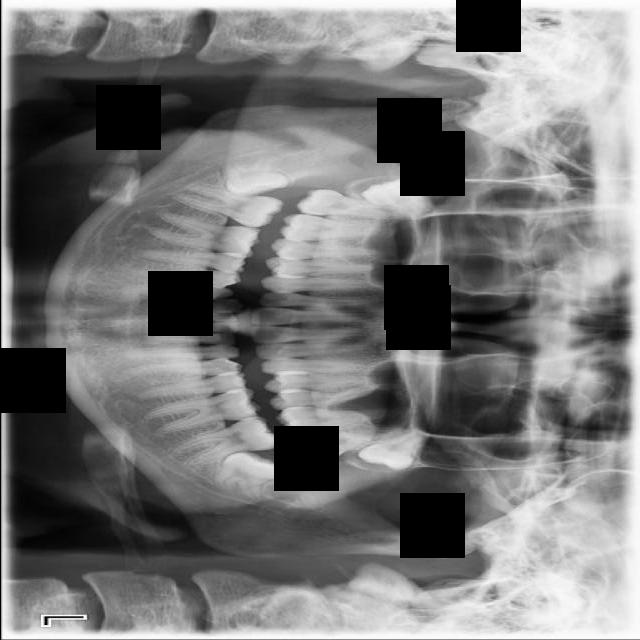3M ESPE Implant: (358, 165, 440, 224)
73: (28, 558, 46, 566)
BioHorizons Implant: (292, 425, 403, 462)
BioLife Implant: (355, 426, 438, 482)
Biomet 3i Implant: (212, 442, 287, 510)
Blue Sky Bio Implant: (167, 412, 281, 470)
Caries: (295, 188, 401, 217)
Implant: (169, 180, 286, 232)
Keystone Dental Implant: (221, 149, 289, 200)
